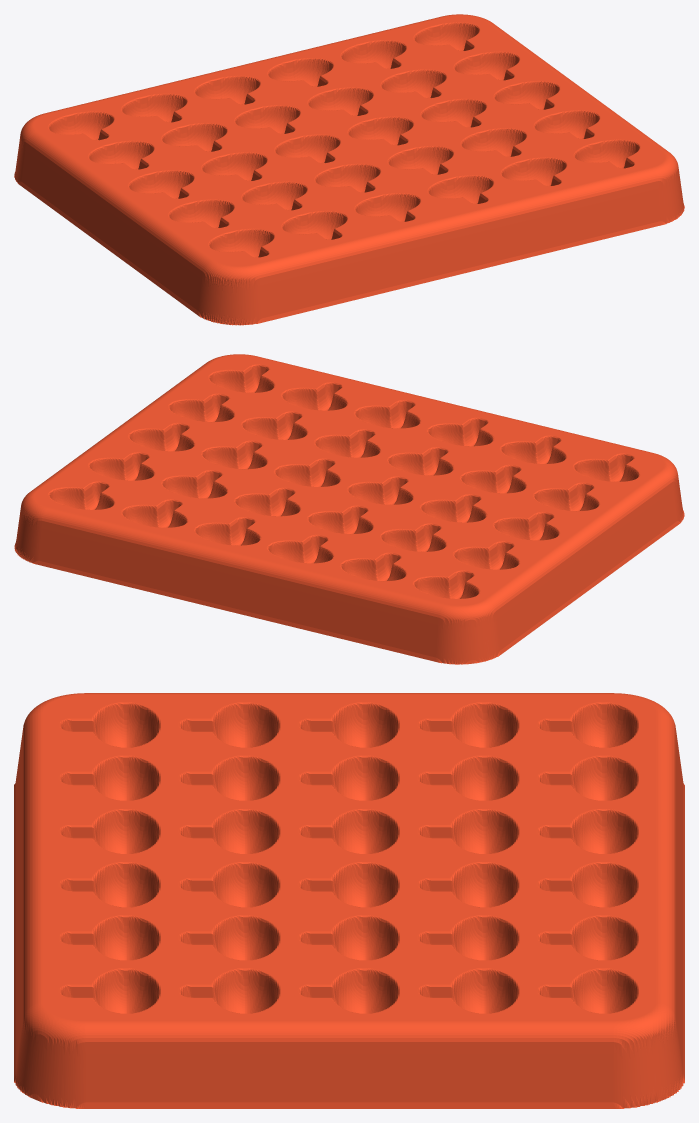
The model's file is mold.glb.
3 views of the same model, one above another, from view 1: azimuth 30°, elevation 25°; view 2: azimuth 150°, elevation 25°; view 3: azimuth 270°, elevation 25° (orthographic). The views are drawn at different scales.
Parts seen in each view (by area): view 1: geometry_0; view 2: geometry_0; view 3: geometry_0.
Part boxes in pixels (<box>): geometry_0: <box>14,14,684,325</box>; geometry_0: <box>14,354,684,664</box>; geometry_0: <box>14,693,684,1108</box>.
Size of the model in its own units: 0.104 by 0.0105 by 0.0842.
